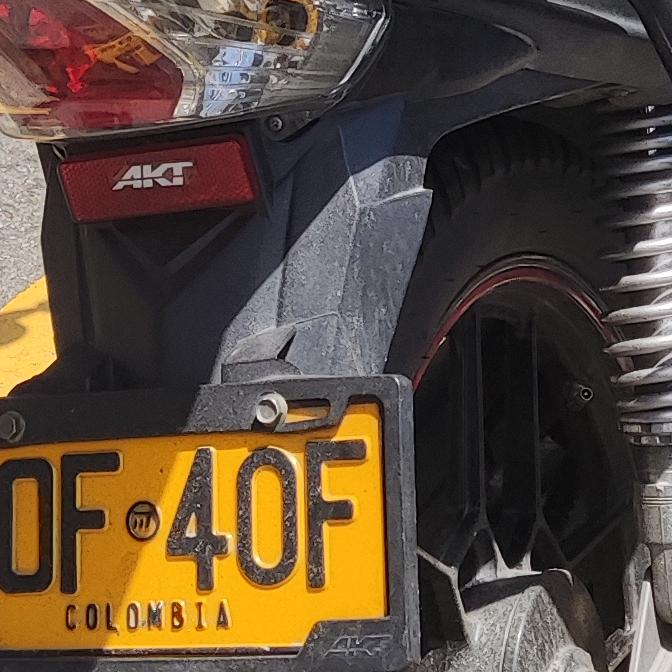plates: (0, 378, 418, 672)
